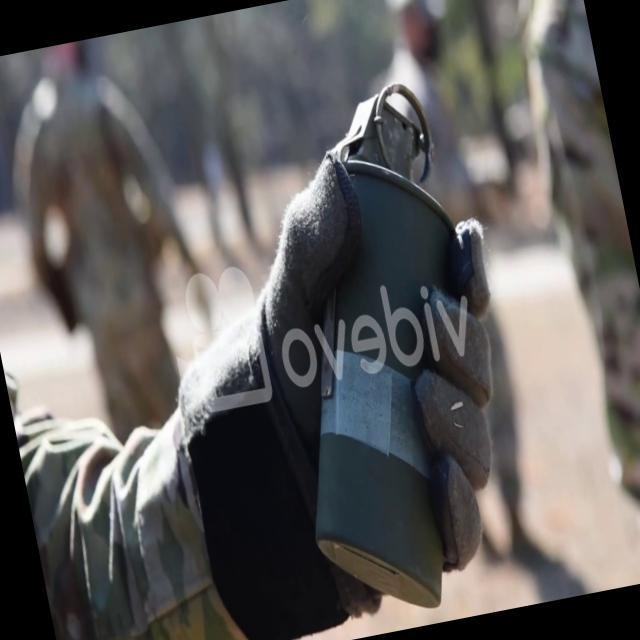grenade: (233, 73, 537, 627)
